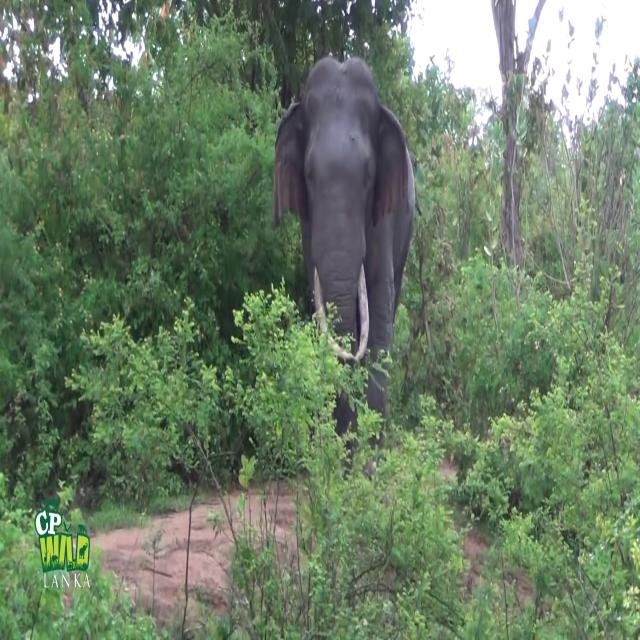Elephant: (272, 54, 416, 476)
